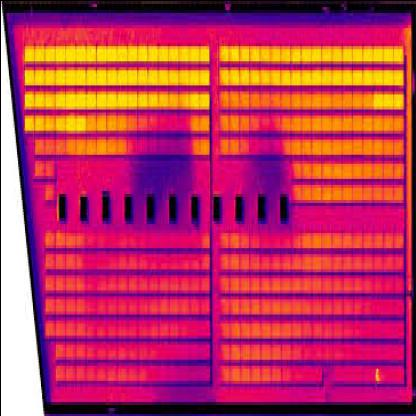Defects: (23, 84, 209, 108), (22, 42, 208, 63), (218, 42, 402, 60), (217, 70, 400, 84), (22, 70, 208, 82), (372, 96, 402, 106)
